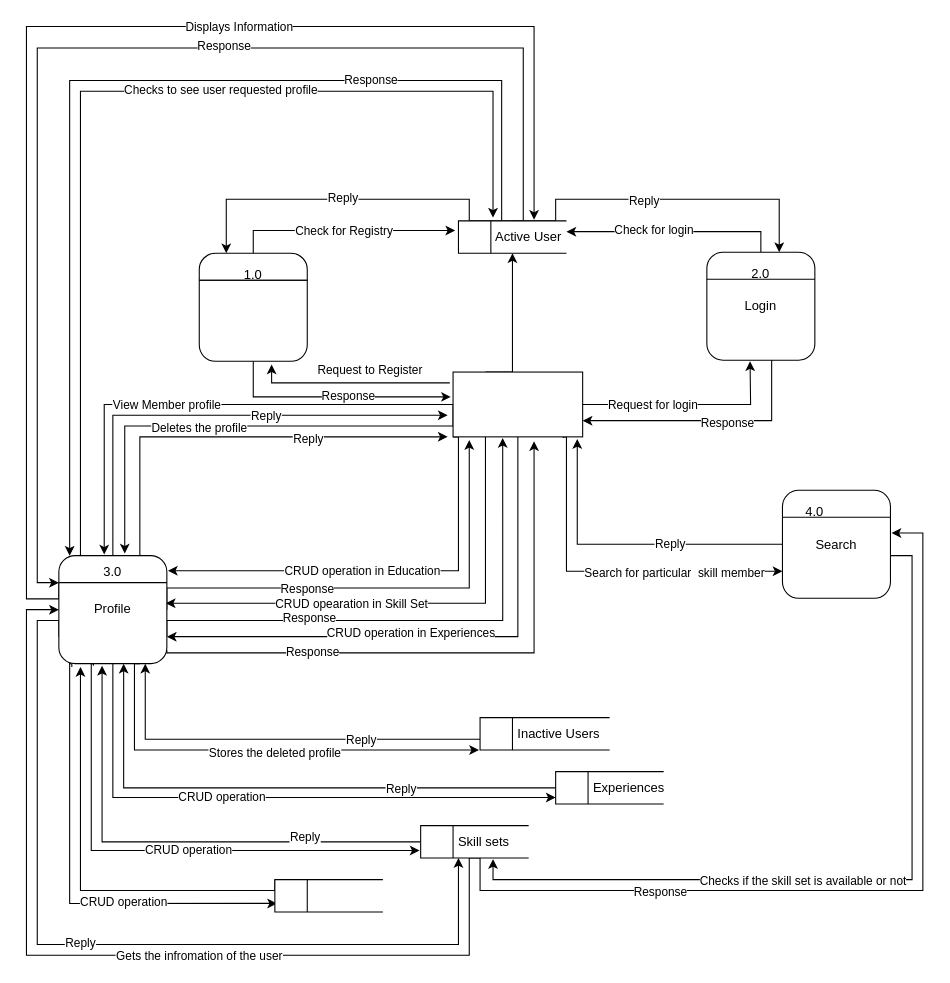
Some shapes in this 950 by 983 pixel diagram are drawn without their labels. Here are the shapes that lost their labels. From the top down, the box of each, then its label:
(198, 252, 307, 361): Register
(452, 371, 583, 437): Member
(274, 879, 383, 912): Education
